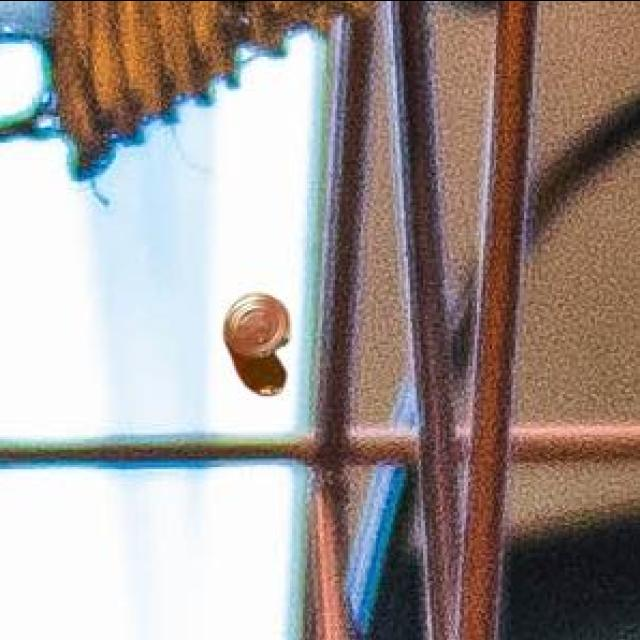logam: (222, 295, 287, 396)
